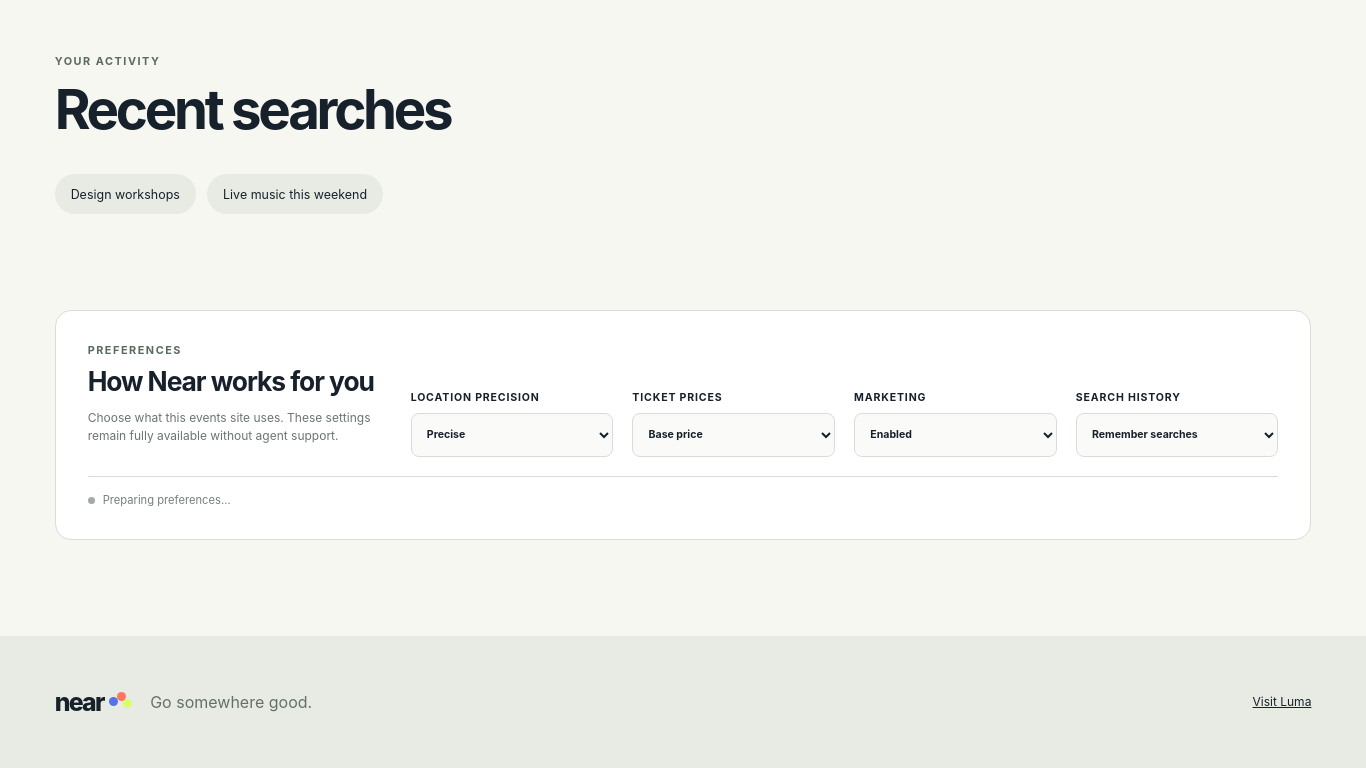
Test: Near human experience › marketing and history controls update visible state and clear history
(page scrolled)
Select "Disabled" in the dropdown labelled "Marketing": (955, 435) [854, 413, 1057, 457]
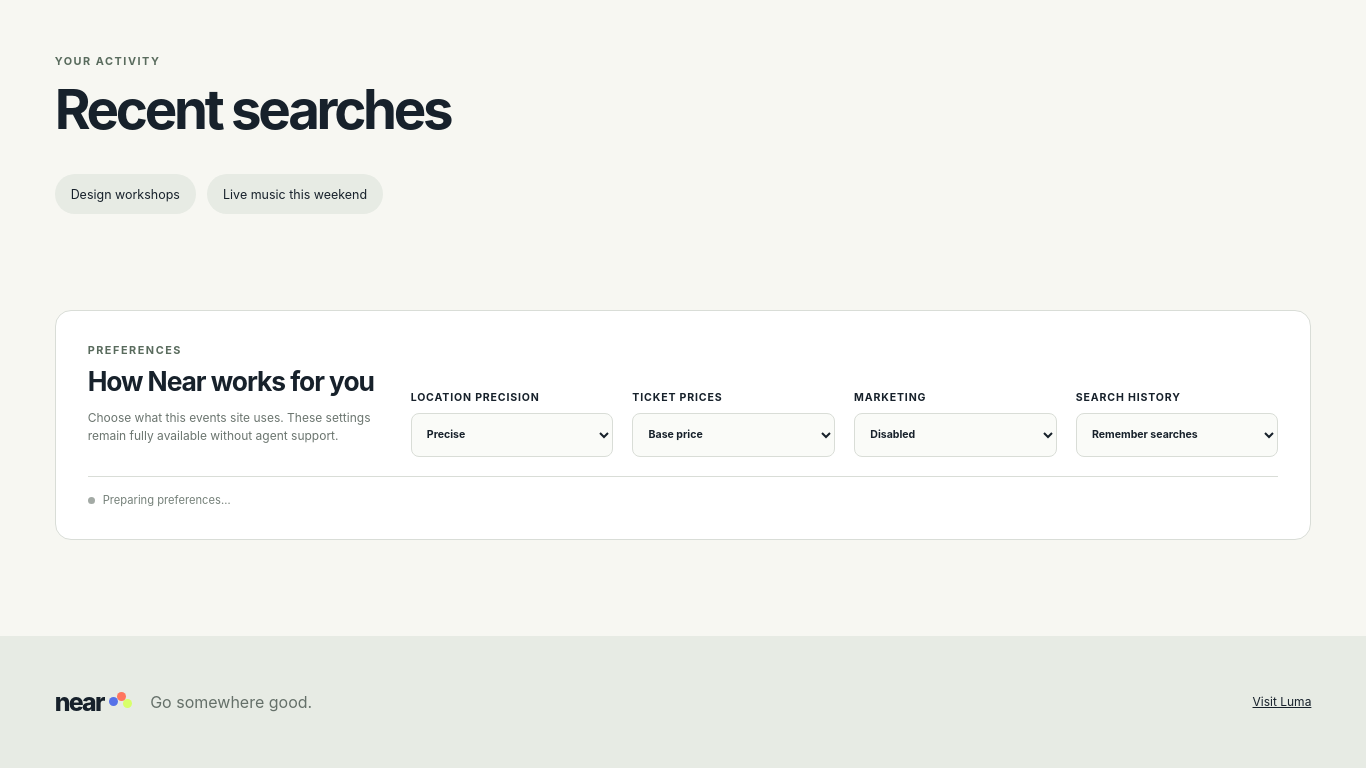
Select "Do not retain searches" in the dropdown labelled "Search history": (1177, 435) [1076, 413, 1278, 457]
(page scrolled)
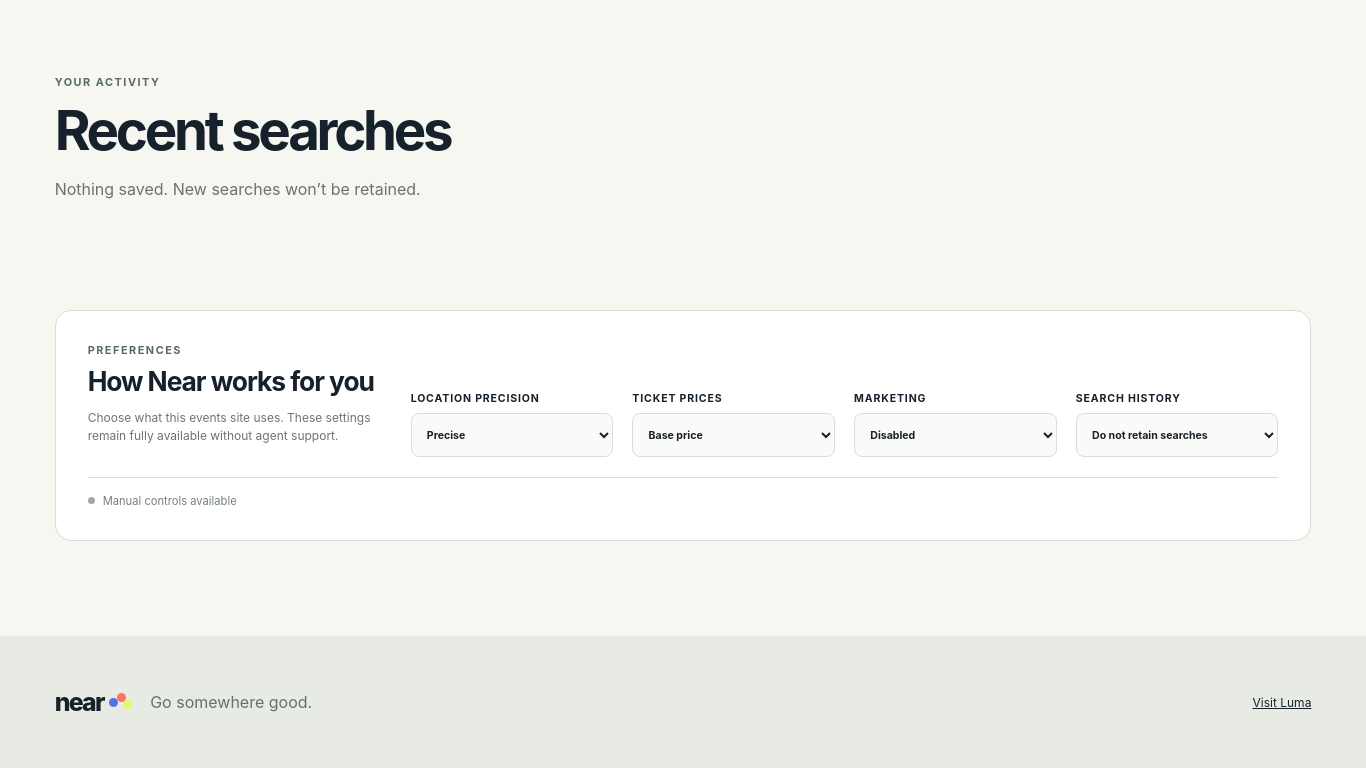
Check: the text "Nothing saved. New searches won’t be retained." is shown, box [55, 179, 421, 199]
